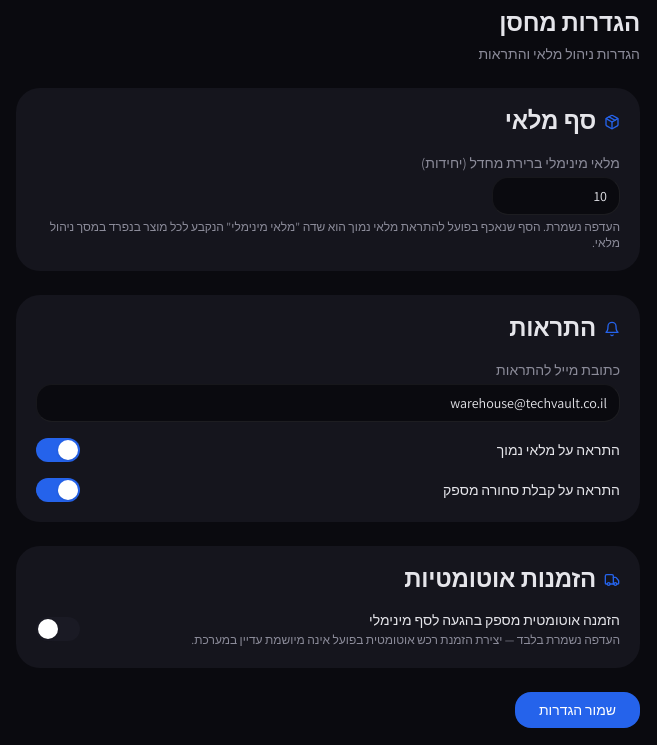
Test: WarehouseSettingsPage — real persistence › shows a success toast only after the backend confirms persistence (was previously a no-op button entirely)
Click the button "שמור הגדרות".
click(577, 710)  # box 515,692 -> 640,728
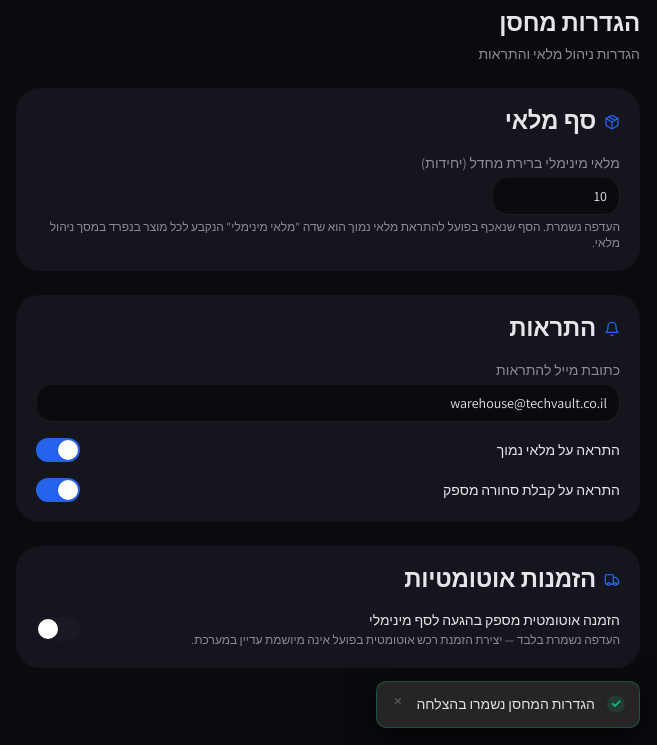
Check: the text "הגדרות המחסן נשמרו בהצלחה" is shown, box 416,694 -> 595,715
